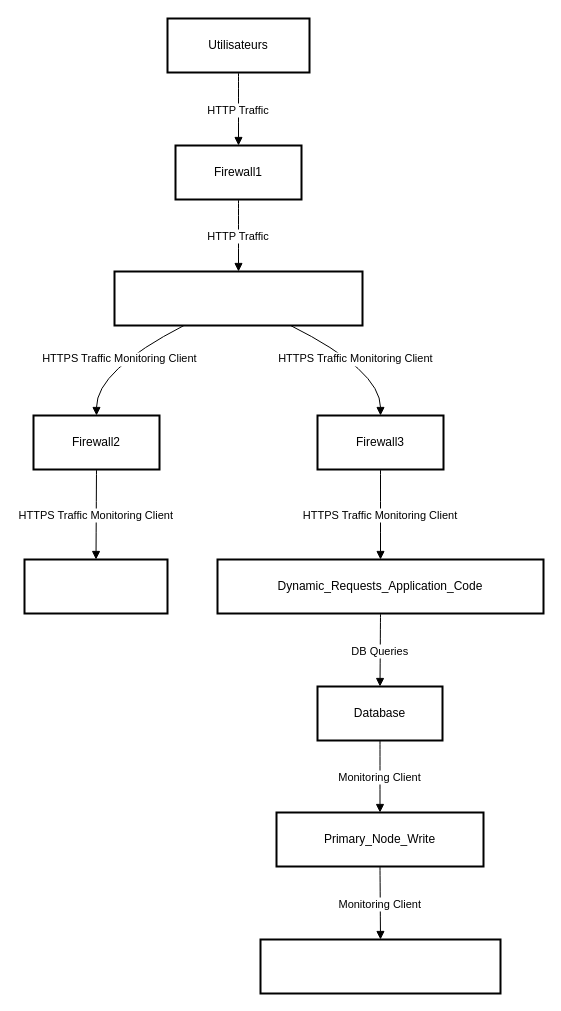
This 561x1011 diagram has some shape labels left out. Here are the shapes that lost their labels. From the top down, the centre of each, then its label:
At [238,298]: "Clustered_Load_Balancers".
At [95,586]: "Static_Files".
At [380,966]: "Replica_Node_Read_Only".
